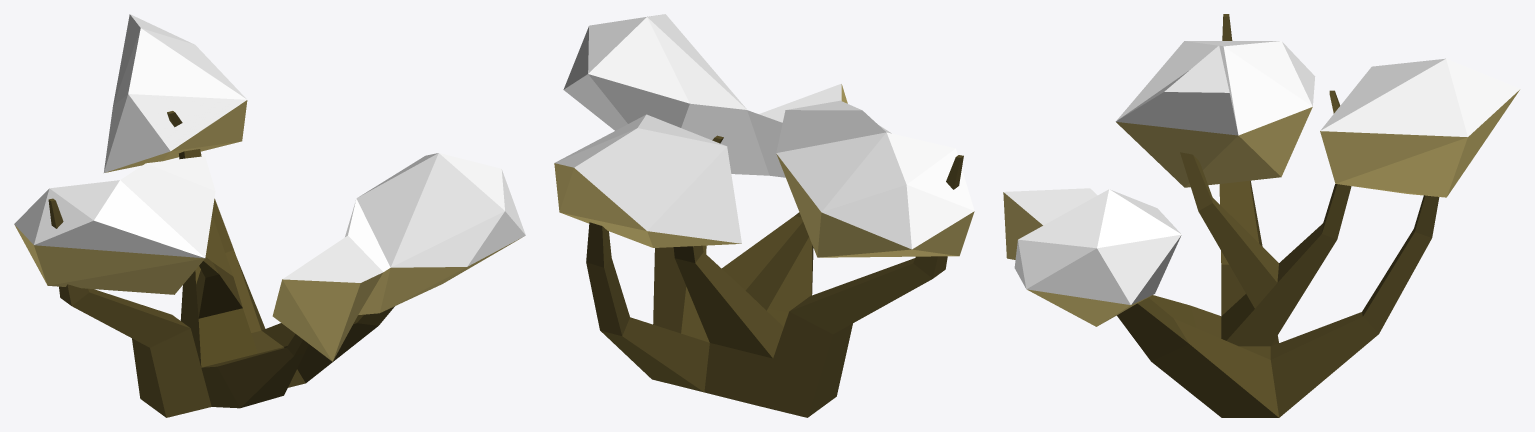
Rendered from BushWinter3_Alt2.fbx.
The picture shows the model from 3 angles, left to right: view 1: azimuth 30°, elevation 25°; view 2: azimuth 150°, elevation 25°; view 3: azimuth 270°, elevation 25°; orthographic projection. The views are drawn at different scales.
Parts seen in each view (by area): view 1: BushWinter3_Alt2; view 2: BushWinter3_Alt2; view 3: BushWinter3_Alt2.
Part boxes in pixels (box(x1,y1,x2,y2)): BushWinter3_Alt2: box(14, 14, 525, 417); BushWinter3_Alt2: box(554, 14, 974, 417); BushWinter3_Alt2: box(1003, 14, 1520, 417).
Size of the model in its own units: 0.9191 by 0.6291 by 0.9046.
